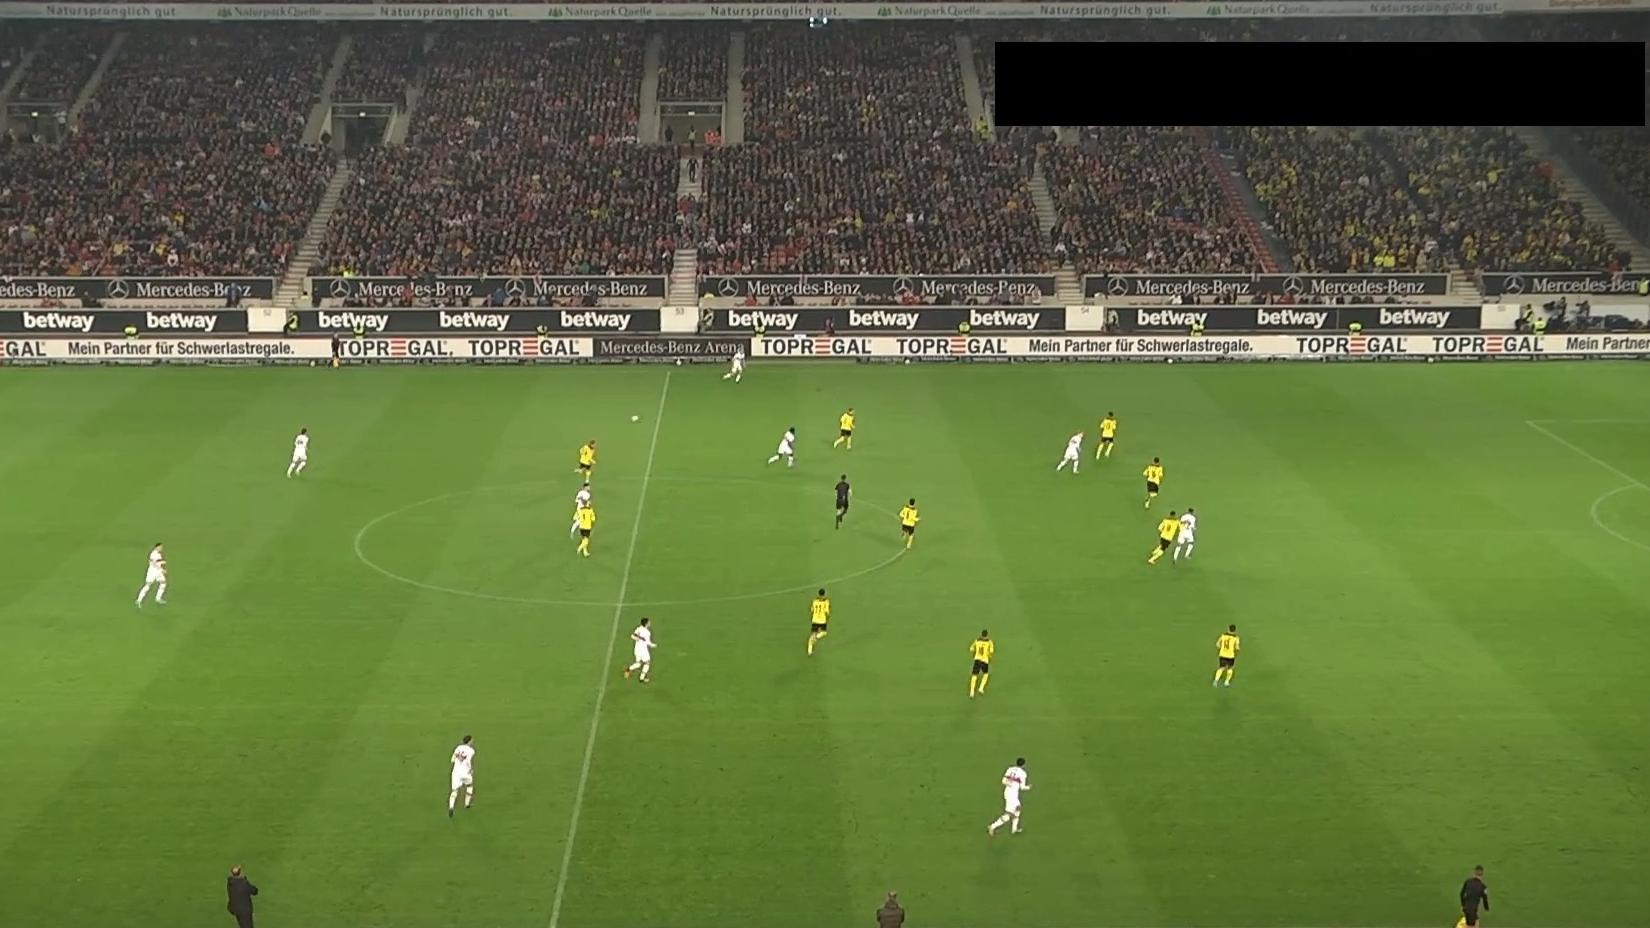ball: (630, 413, 641, 423)
